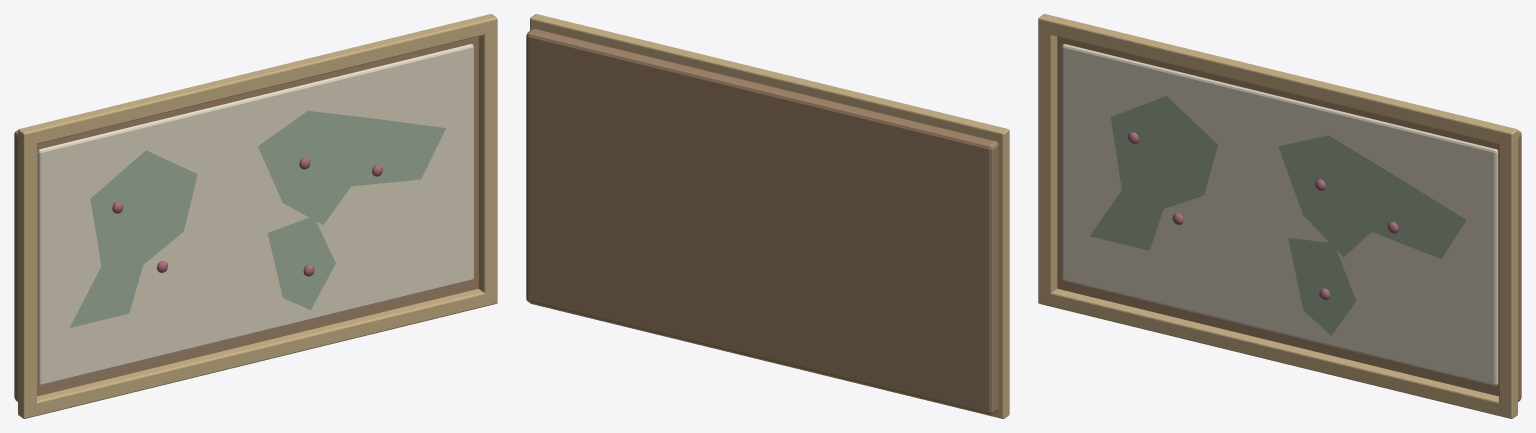
File: hecate-travel-map.glb
The picture shows the model from 3 angles, left to right: view 1: azimuth 30°, elevation 25°; view 2: azimuth 150°, elevation 25°; view 3: azimuth 330°, elevation 25°; orthographic projection.
Parts seen in each view (by area): view 1: map backing; view 2: map backing; view 3: map backing.
Part boxes in pixels (x1,y1,x2,y2): map backing: (14,14,497,418); map backing: (526,14,1009,418); map backing: (1038,14,1521,418).
Bounding box in the file's own units: 3.4 × 1.96 × 0.195.
